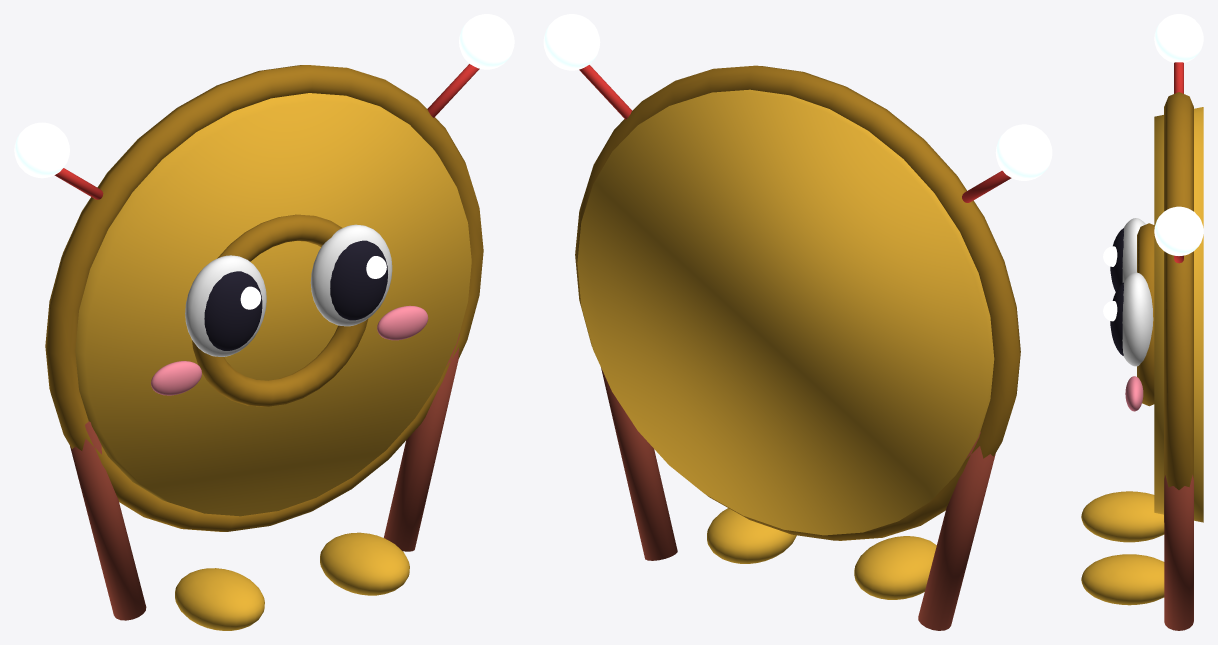
Rendered from sp-yin3-1.glb.
The picture shows the model from 3 angles, left to right: view 1: azimuth 30°, elevation 25°; view 2: azimuth 150°, elevation 25°; view 3: azimuth 270°, elevation 25°; orthographic projection. The views are drawn at different scales.
Visible parts, largest first — view 1: Blush1, Boss, Tassel1, Shine1; view 2: Blush1, Boss, Tassel1; view 3: Blush1, Boss, Tassel1, Shine1.
Boxes of the visible parts, <box> form: Blush1: <box>54,64,479,630</box>; Boss: <box>45,65,483,531</box>; Tassel1: <box>14,14,514,178</box>; Shine1: <box>240,256,386,309</box>; Blush1: <box>577,65,1011,630</box>; Boss: <box>575,65,1020,540</box>; Tassel1: <box>543,14,1052,180</box>; Blush1: <box>1081,62,1203,630</box>; Boss: <box>1137,92,1193,522</box>; Tassel1: <box>1154,14,1203,255</box>; Shine1: <box>1103,246,1117,321</box>.
Size of the model in its own units: 0.816 by 0.812 by 0.198.
4 materials, 4 textured.
